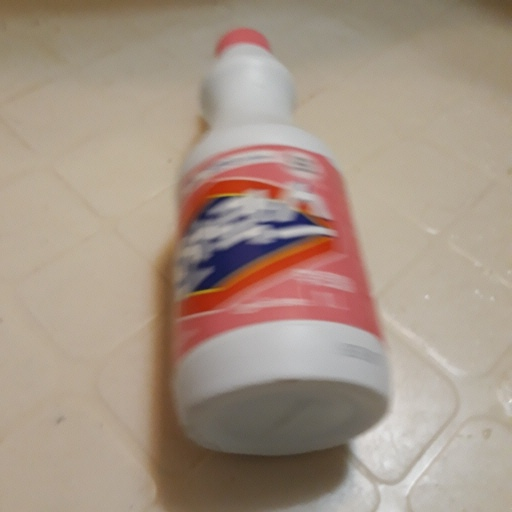Plastic_0: (166, 27, 394, 452)
